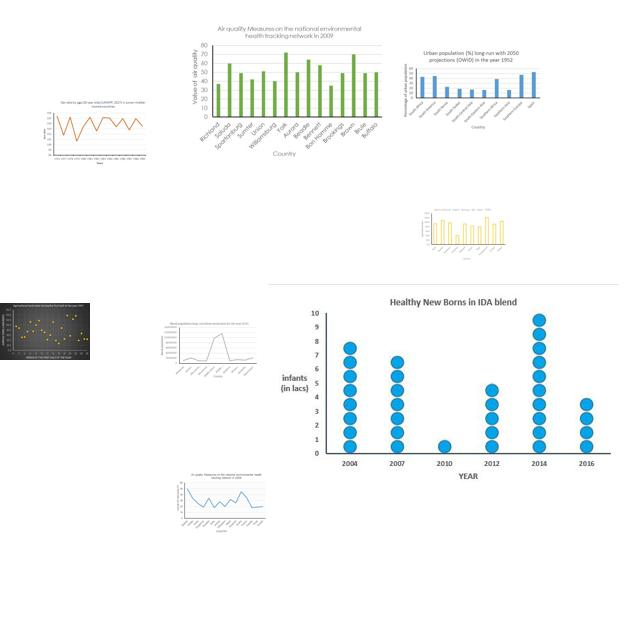Graph: (268, 284, 619, 490), (189, 23, 386, 163), (400, 49, 542, 130), (41, 99, 148, 166), (175, 472, 268, 535), (160, 321, 258, 378), (0, 303, 90, 360), (419, 207, 507, 260)
